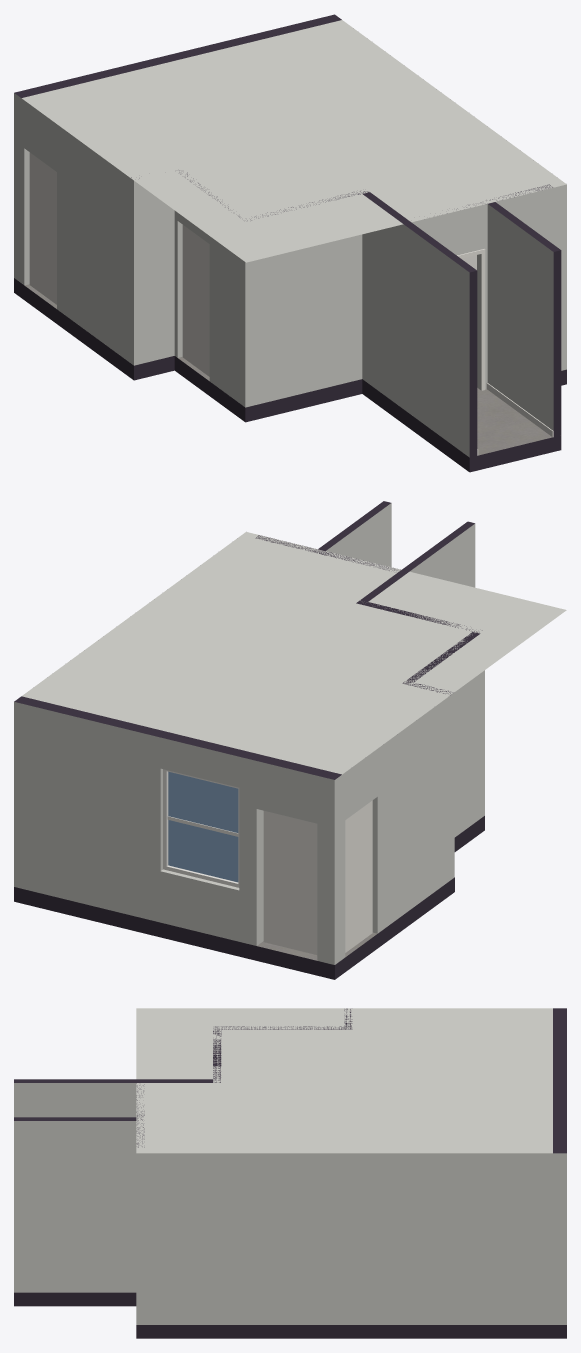
Rendered from office.glb.
3 renders of one model, top to bottom at view 1: azimuth 30°, elevation 25°; view 2: azimuth 150°, elevation 25°; view 3: azimuth 270°, elevation 25°, orthographic. The views are drawn at different scales.
Parts seen in each view (by area): view 1: Ceiling, Wall_Garage, Wall_Front, Wall_LeftUpper, Wall_HallR, Floor, Wall_Jog, Wall_WIC, Wall_Nook, Wall_Back, BathDoor, ClosetDoor (+2 smaller); view 2: Ceiling, Wall_Back, Wall_LeftUpper, Floor, BackDoor, WindowGlass, Wall_WIC, BathDoor, Wall_Garage, Wall_HallR, WindowFrame, Wall_Front (+1 smaller); view 3: Wall_Right, Ceiling, Wall_HallR, Floor, Wall_Garage, Wall_Back.
Boxes of the visible parts, x1=… form: Ceiling: x1=22, y1=20, x2=566, y2=262; Wall_Garage: x1=362, y1=192, x2=477, y2=457; Wall_Front: x1=241, y1=191, x2=368, y2=407; Wall_LeftUpper: x1=21, y1=98, x2=129, y2=361; Wall_HallR: x1=487, y1=202, x2=561, y2=436; Floor: x1=14, y1=278, x2=566, y2=472; Wall_Jog: x1=129, y1=177, x2=174, y2=365; Wall_WIC: x1=174, y1=170, x2=240, y2=403; Wall_Nook: x1=412, y1=184, x2=553, y2=389; Wall_Back: x1=14, y1=14, x2=341, y2=282; BathDoor: x1=29, y1=152, x2=56, y2=304; ClosetDoor: x1=182, y1=225, x2=209, y2=376; Ceiling: x1=22, y1=532, x2=566, y2=774; Wall_Back: x1=14, y1=696, x2=342, y2=964; Wall_LeftUpper: x1=342, y1=696, x2=450, y2=959; Floor: x1=14, y1=816, x2=484, y2=979; BackDoor: x1=263, y1=811, x2=317, y2=954; WindowGlass: x1=168, y1=771, x2=238, y2=882; Wall_WIC: x1=407, y1=632, x2=480, y2=837; BathDoor: x1=345, y1=800, x2=372, y2=952; Wall_Garage: x1=361, y1=521, x2=475, y2=601; Wall_HallR: x1=318, y1=501, x2=391, y2=567; WindowFrame: x1=163, y1=769, x2=239, y2=887; Wall_Front: x1=356, y1=600, x2=484, y2=818; Wall_Right: x1=136, y1=1153, x2=553, y2=1324; Ceiling: x1=136, y1=1008, x2=552, y2=1153; Wall_HallR: x1=14, y1=1117, x2=136, y2=1292; Floor: x1=14, y1=1292, x2=566, y2=1338; Wall_Garage: x1=14, y1=1079, x2=212, y2=1117; Wall_Back: x1=553, y1=1008, x2=566, y2=1324.
Size of the model in its own units: 4.97 by 2.96 by 8.
47 materials, 4 textured.
